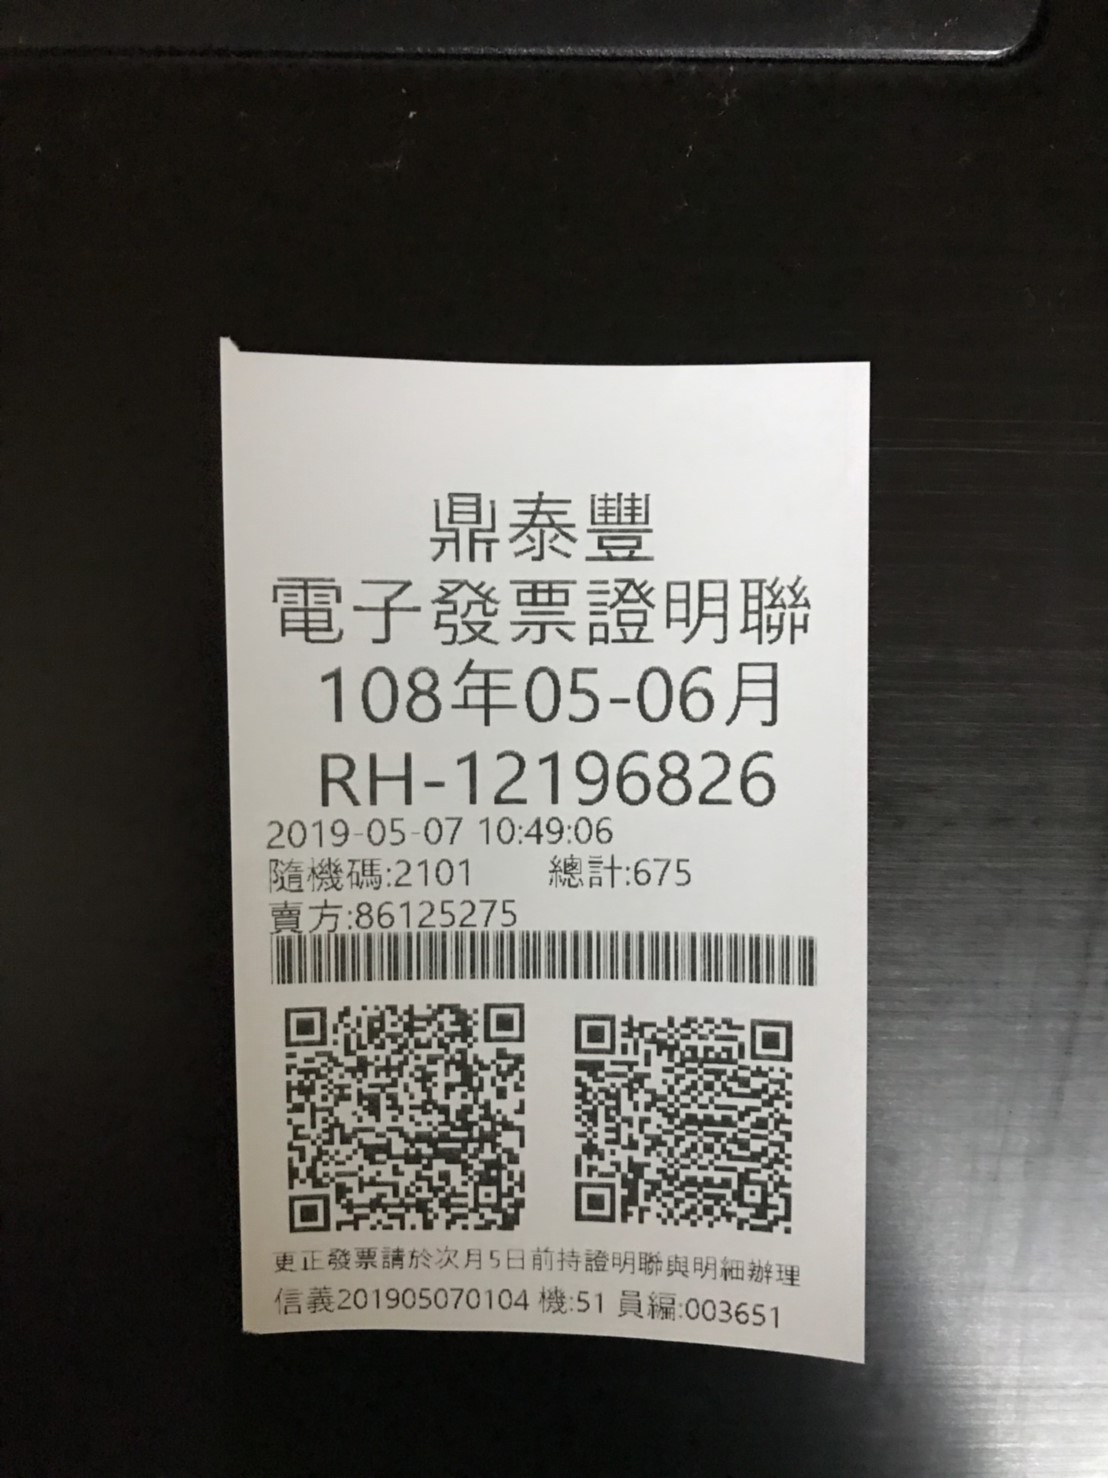Date_New: (318, 655, 783, 730)
Number_New: (459, 742, 777, 812)
